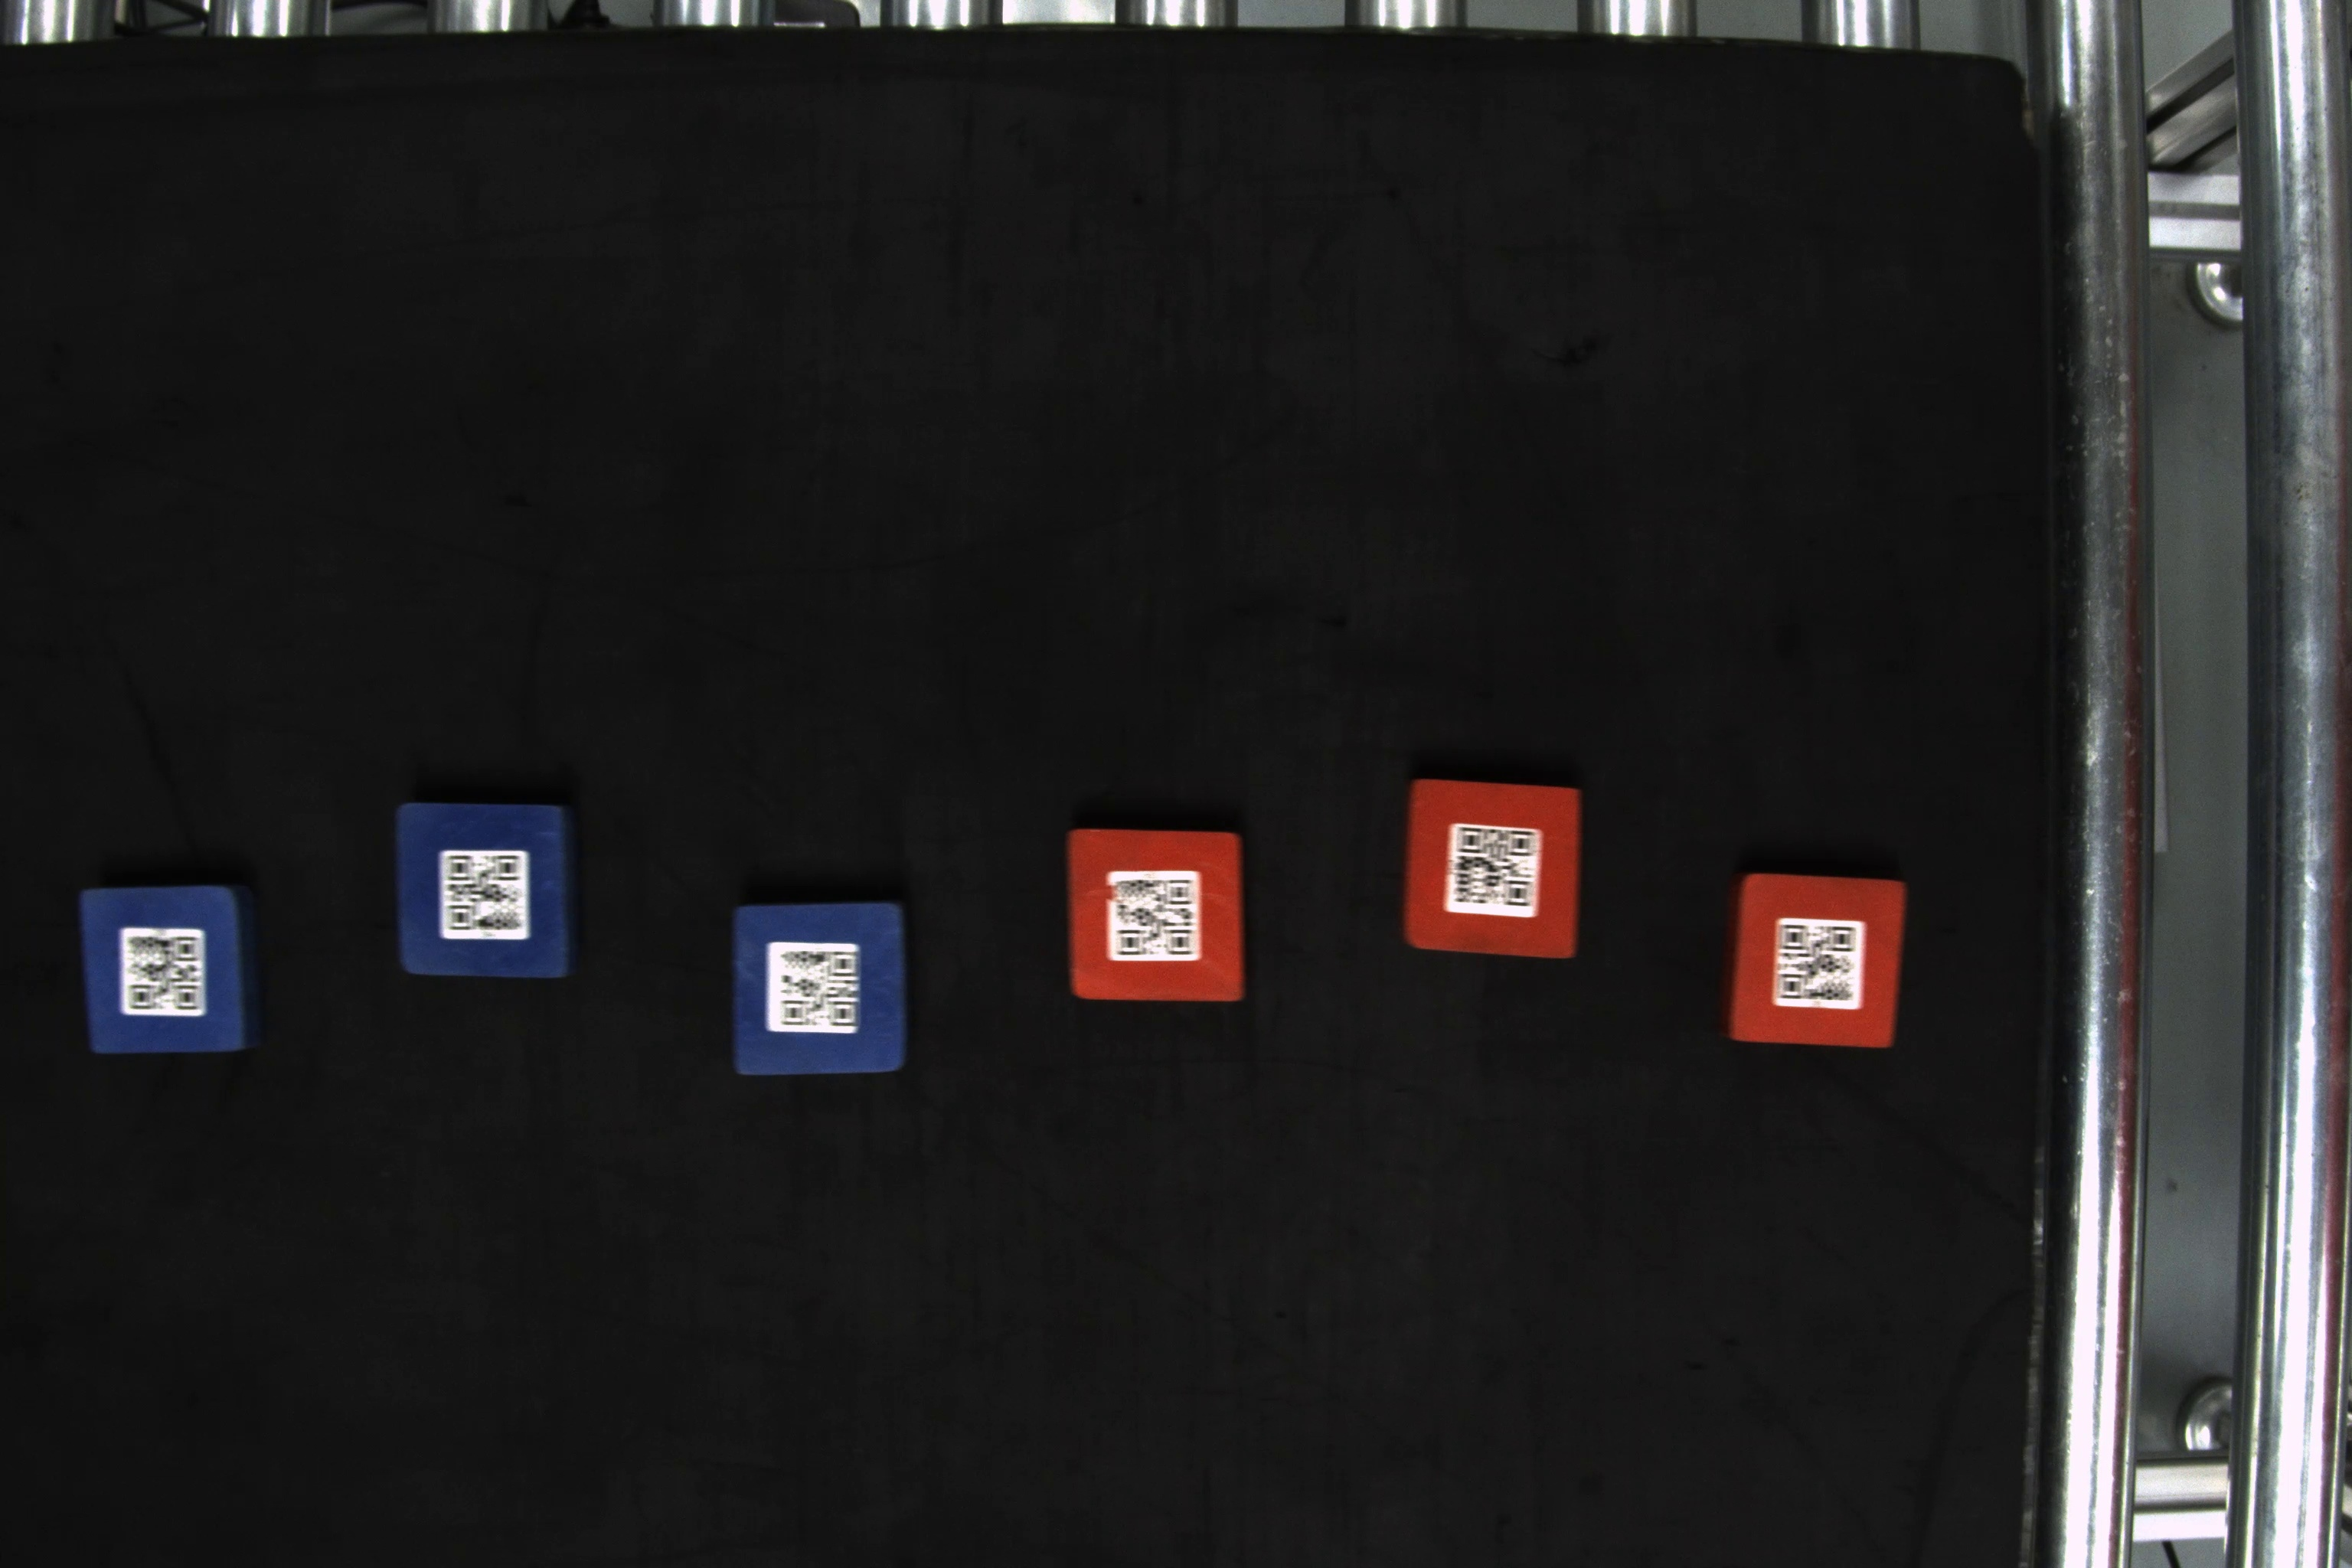wood: (1402, 772, 1589, 968), (390, 793, 581, 983), (728, 898, 919, 1078), (73, 884, 268, 1060), (1064, 826, 1251, 1006), (1722, 871, 1909, 1048)
